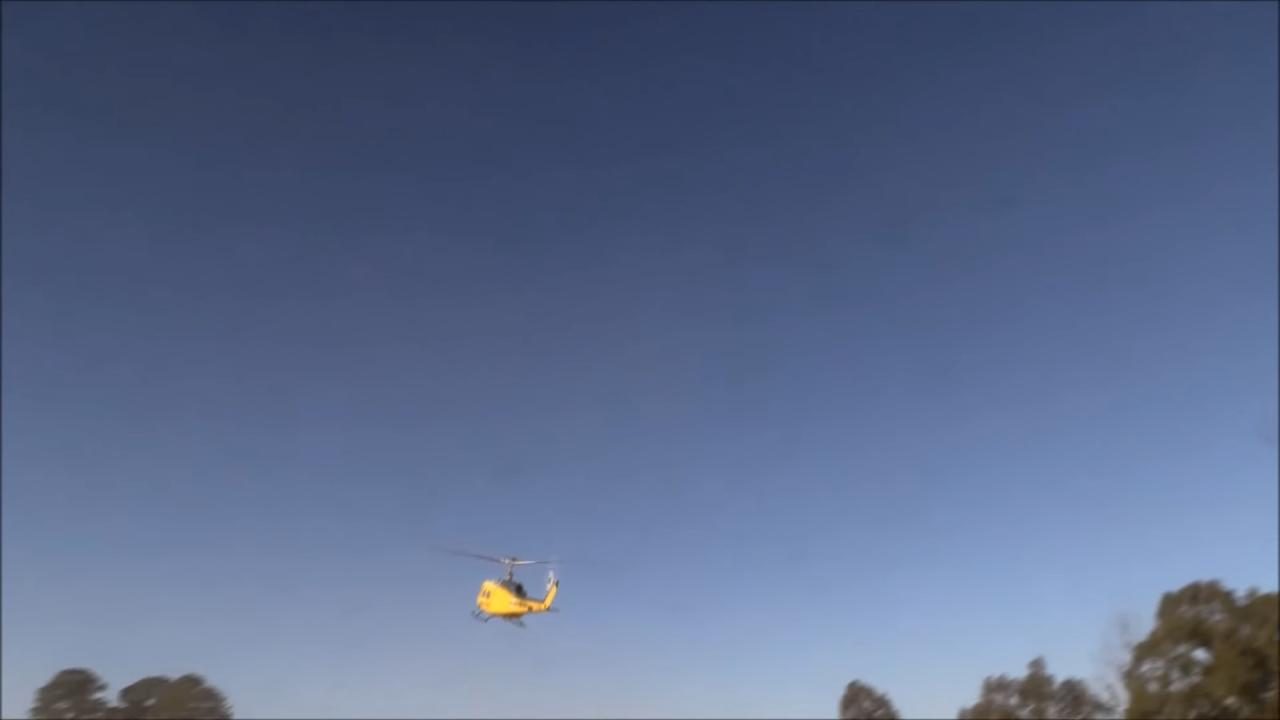Helicopter: (432, 532, 581, 639)
